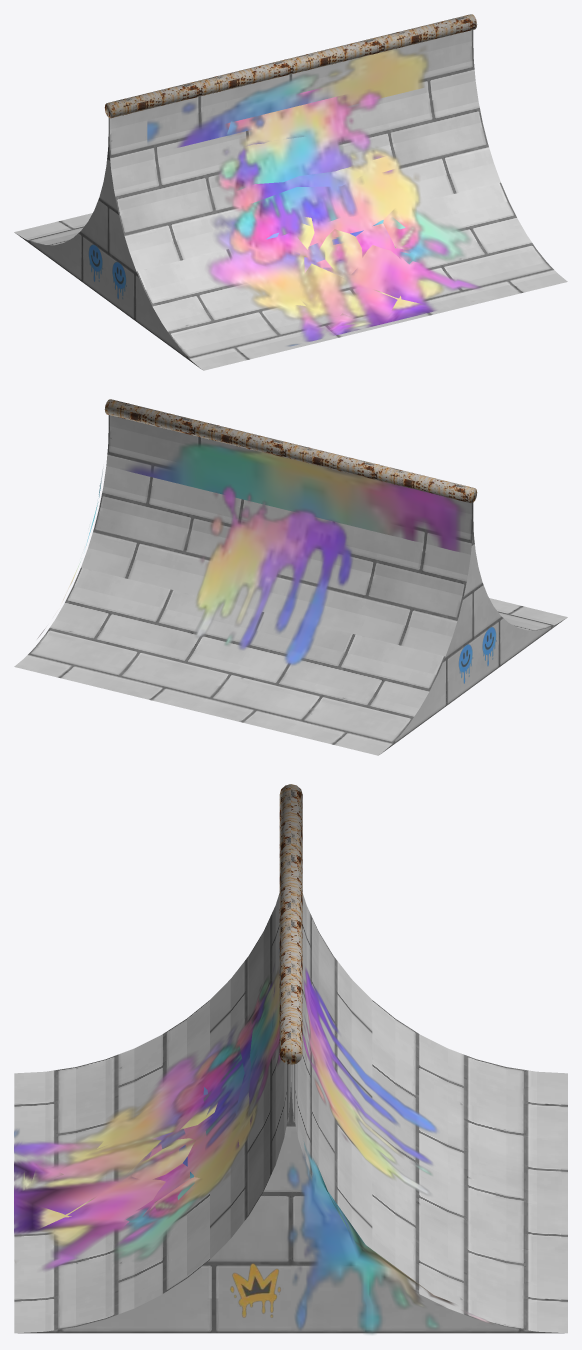
File: SpineRamp.glb
3 views of the same model, one above another, from view 1: azimuth 30°, elevation 25°; view 2: azimuth 150°, elevation 25°; view 3: azimuth 270°, elevation 25° (orthographic). The views are drawn at different scales.
Parts seen in each view (by area): view 1: SpineRamp_A, SpineRamp_Paint, SpineRamp_Coping, SpineRamp_A_GfxL; view 2: SpineRamp_A, SpineRamp_Paint, SpineRamp_Coping, SpineRamp_A_GfxL; view 3: SpineRamp_A, SpineRamp_Paint, SpineRamp_Coping, SpineRamp_A_GfxL.
Boxes of the visible parts, x1,y1,x2,y2 form: SpineRamp_A: (14,30,567,370); SpineRamp_Paint: (147,46,480,346); SpineRamp_Coping: (104,14,477,118); SpineRamp_A_GfxL: (88,244,126,298); SpineRamp_A: (14,415,567,755); SpineRamp_Paint: (37,443,463,665); SpineRamp_Coping: (104,399,477,503); SpineRamp_A_GfxL: (458,627,496,683); SpineRamp_A: (14,893,567,1333); SpineRamp_Paint: (14,948,493,1334); SpineRamp_Coping: (279,784,302,1064); SpineRamp_A_GfxL: (230,1263,280,1317).
Size of the model in its own units: 4.07 by 2.12 by 3.6.
Materials: 4 (4 with a texture image).
